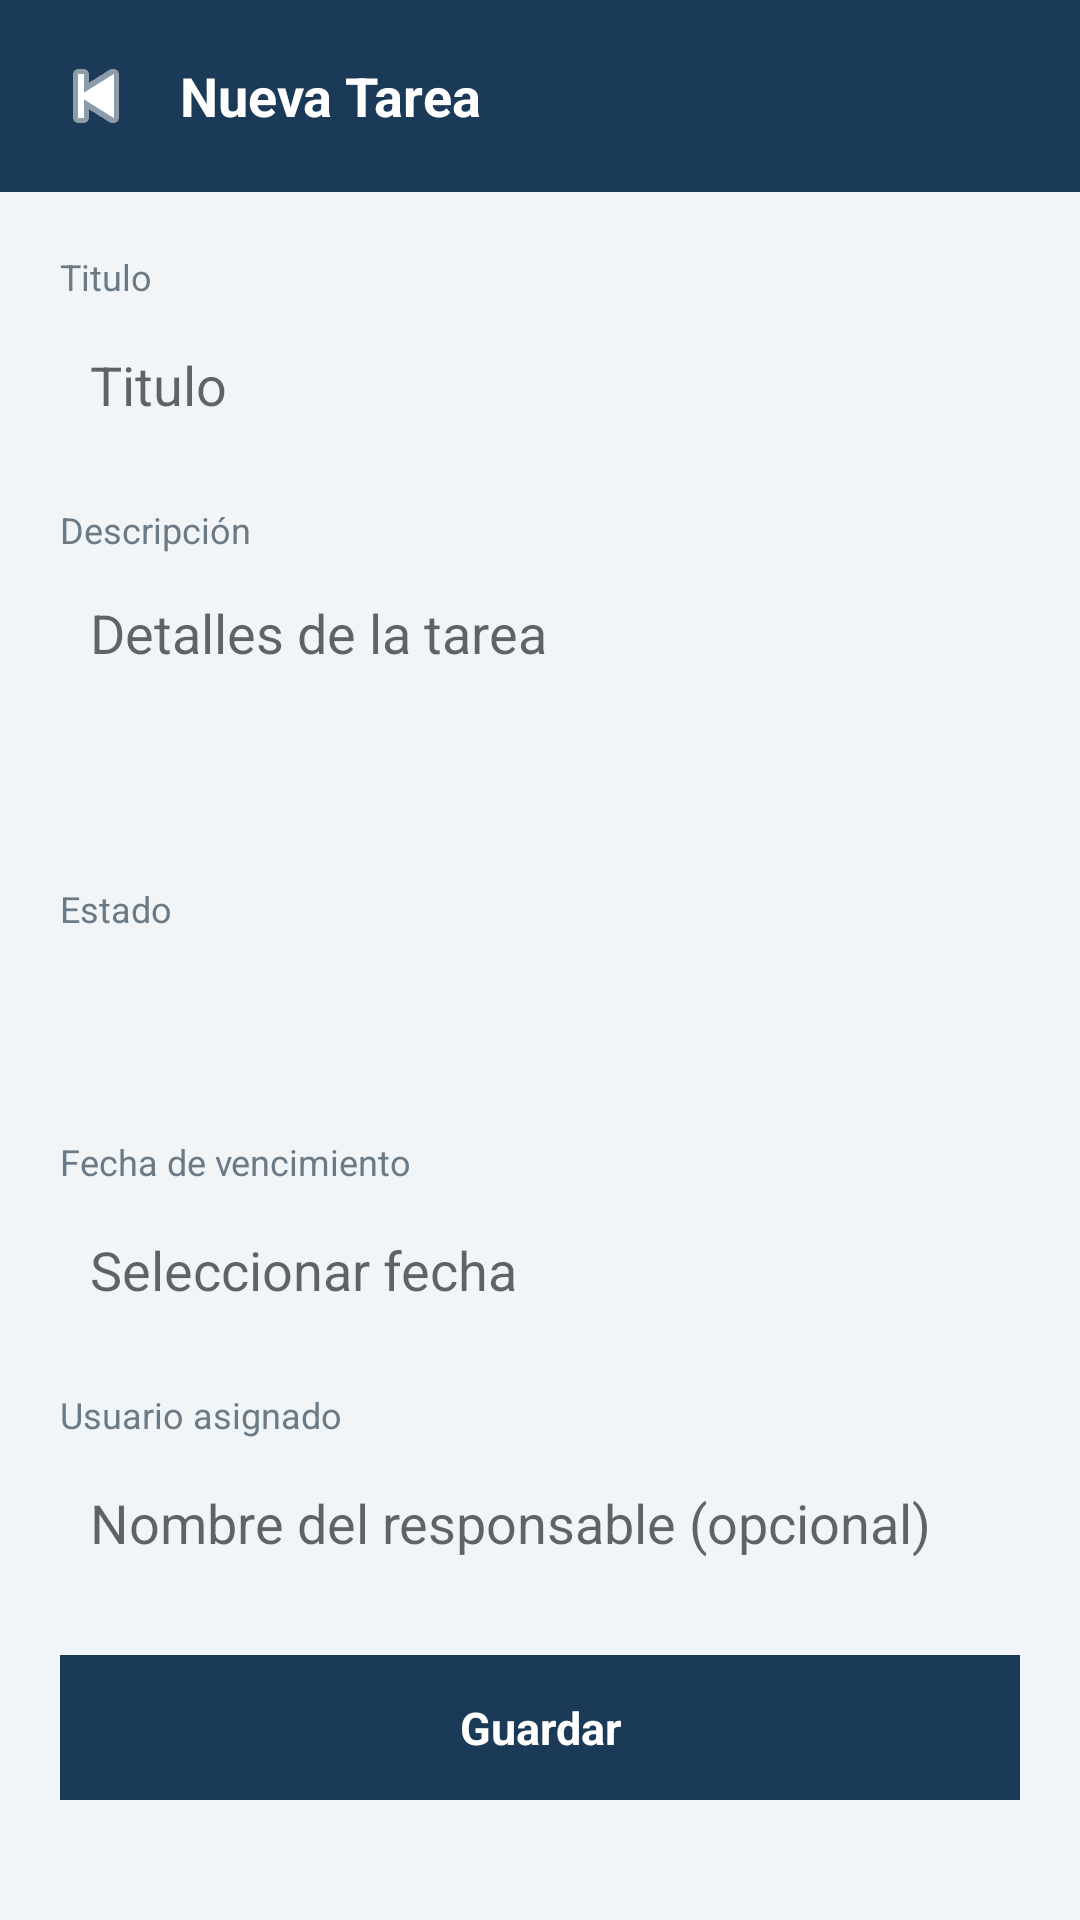

Locate icon controls on the screen. Image size 1080px×1920px, boxes as box(x1, y1, x2, y2).
Atrás: box(73, 69, 119, 123)
